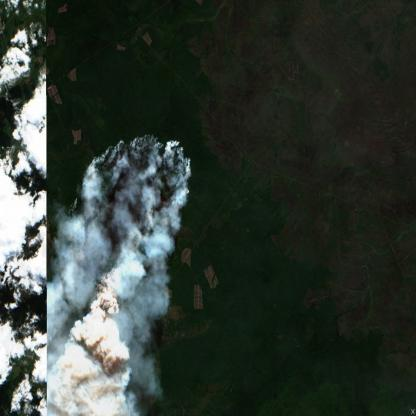fire: (59, 134, 196, 306)
